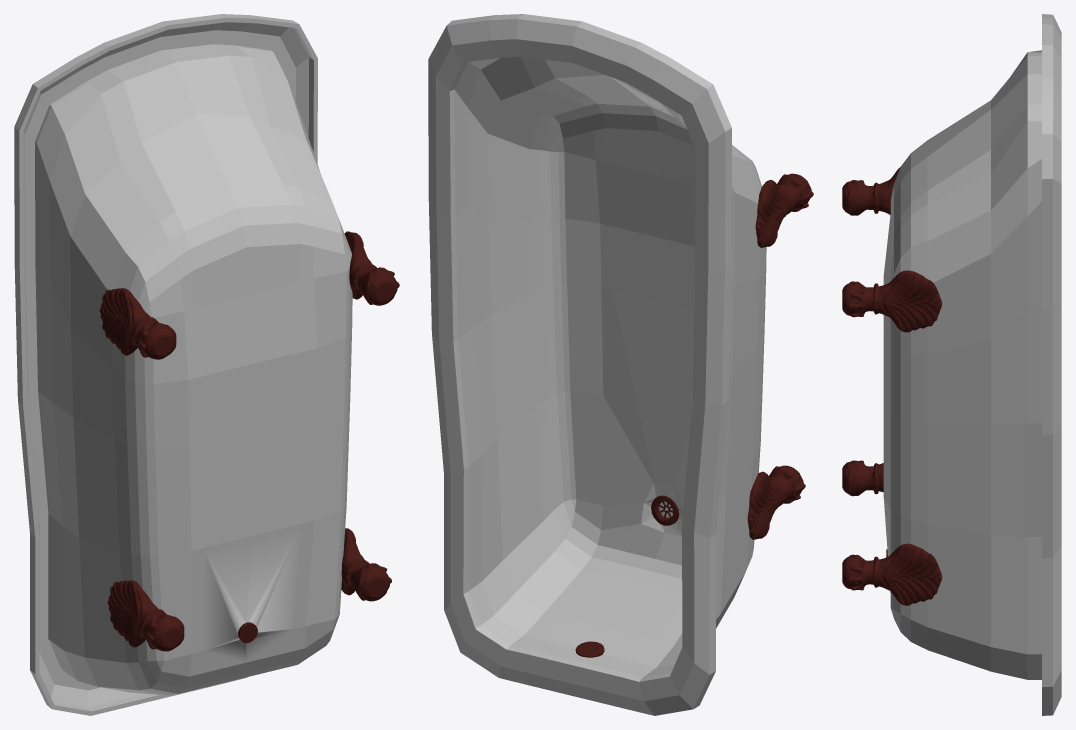
Rendered from BathTub.fbx.
The picture shows the model from 3 angles, left to right: view 1: azimuth 30°, elevation 25°; view 2: azimuth 150°, elevation 25°; view 3: azimuth 270°, elevation 25°; orthographic projection. The views are drawn at different scales.
Parts seen in each view (by area): view 1: BathTub; view 2: BathTub; view 3: BathTub.
Boxes of the visible parts, left/top/right/bottom form: BathTub: left=14, top=14, right=399, bottom=715; BathTub: left=428, top=14, right=813, bottom=715; BathTub: left=842, top=14, right=1061, bottom=715.
Size of the model in its own units: 0.8147 by 2.59 by 1.21.
